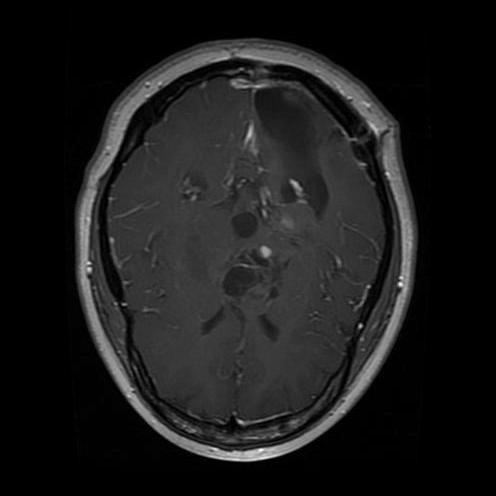Tumour-Glioma: (210, 249, 286, 323)
